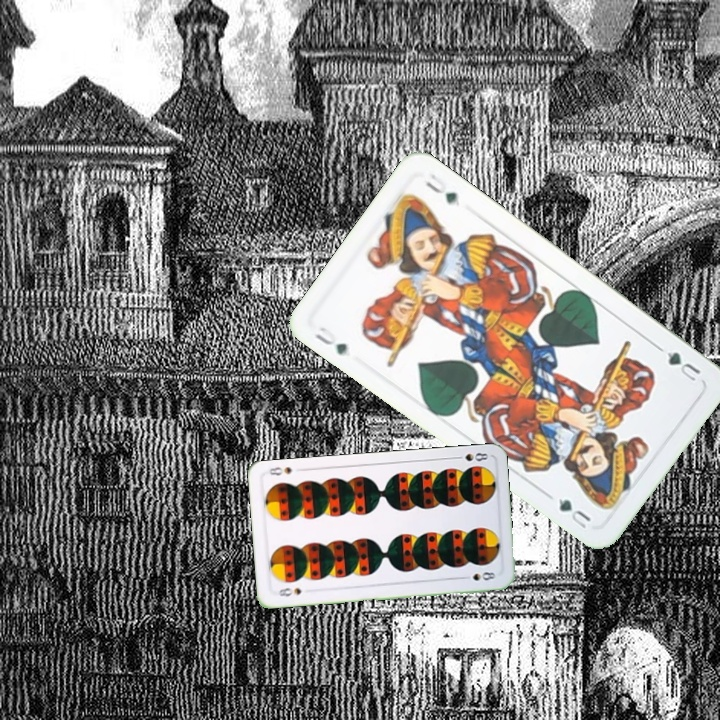GU: (663, 347, 704, 384), (311, 322, 350, 358)
S8: (450, 448, 491, 464), (274, 584, 304, 599)
